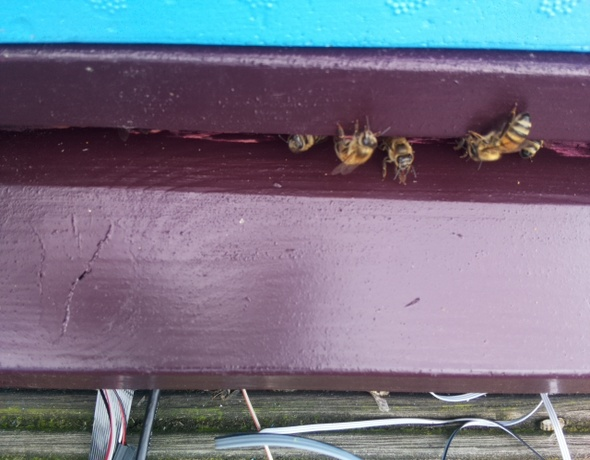no_pollen: (332, 125, 380, 169), (490, 112, 536, 157), (381, 131, 417, 175), (461, 131, 503, 166), (284, 128, 320, 157), (519, 135, 543, 161)
